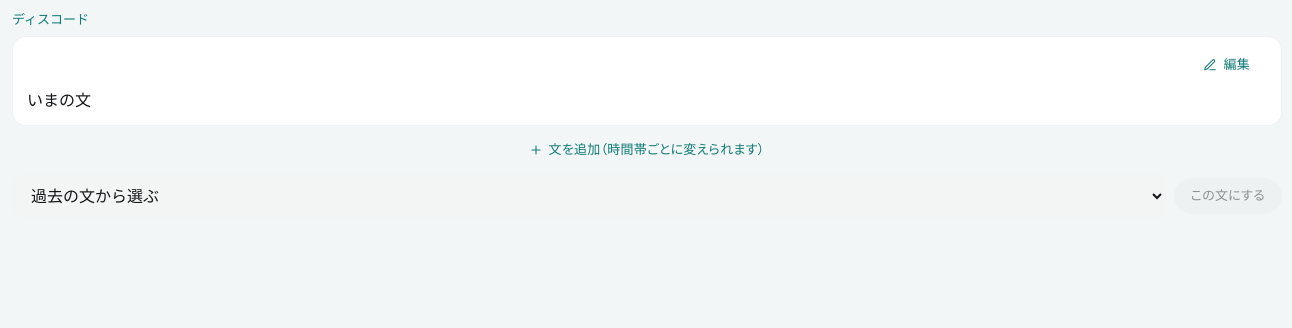
Scenario: ChannelTextRow（トップの一番上の、いま投稿されている文） › その場で直す（編集） › 「編集」を押すと、その文の入力欄と時間帯が開く。押すまでは入力欄を出さない
Click the button with aria-label "ディスコードの投稿する文を編集".
click(1227, 64)  # box top-left (1188, 46), bottom-right (1267, 82)
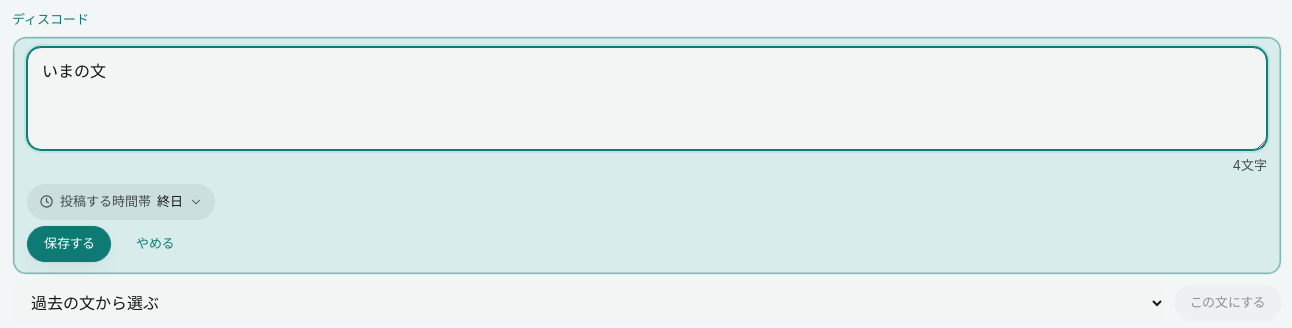
Now the text box named "ディスコードの投稿する文" holds "いまの文", box top-left (27, 46), bottom-right (1267, 150)
Now the button "投稿する時間帯 終日" is shown, box top-left (27, 184), bottom-right (215, 220)
